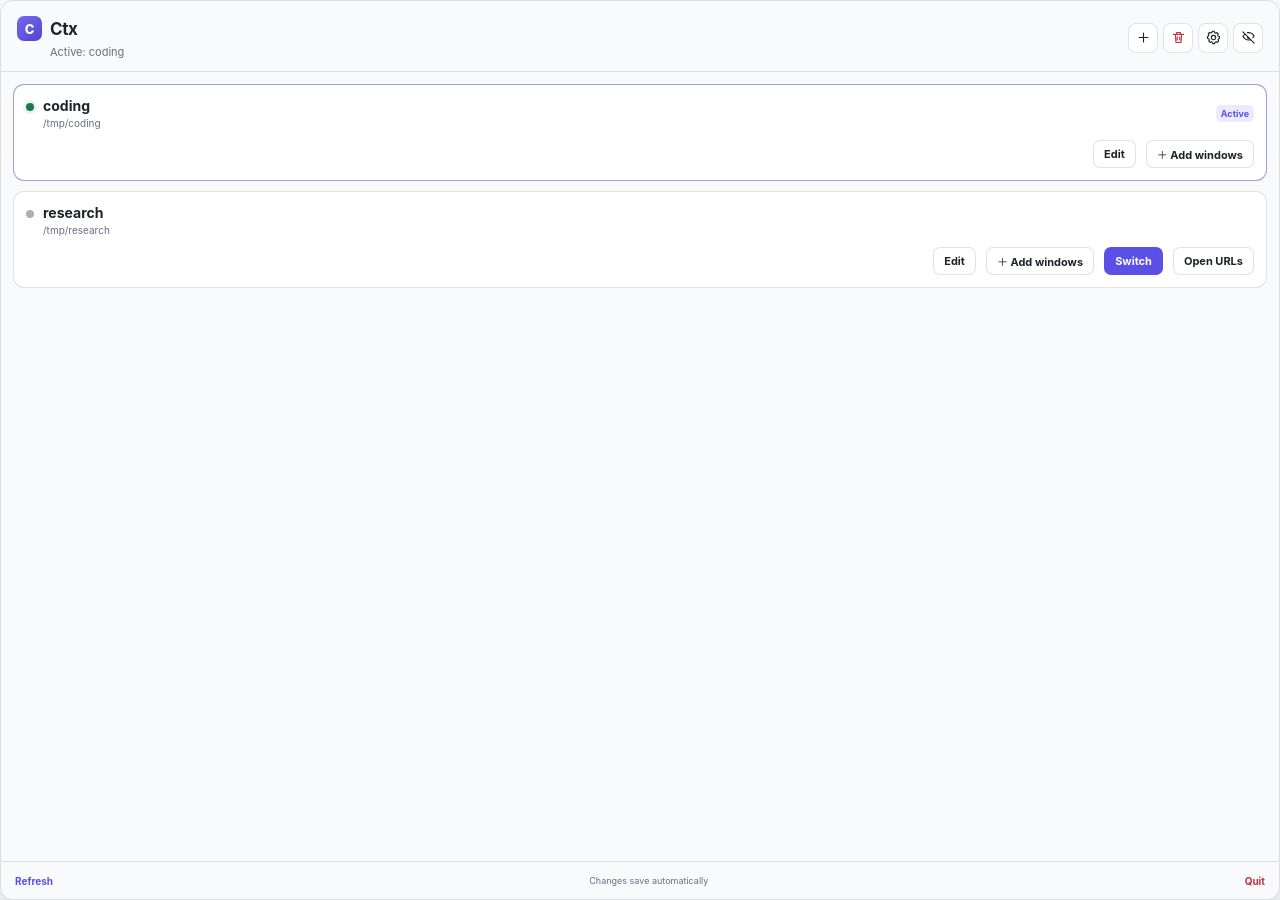
Test: Ctx popover › reopens the popover for partial URL failures
expect the heading "research" is shown: met, box [43,204,110,221]
Click the button with aria-label "Open URLs for research context". click: (1213, 261)
box: [1173,247,1254,275]
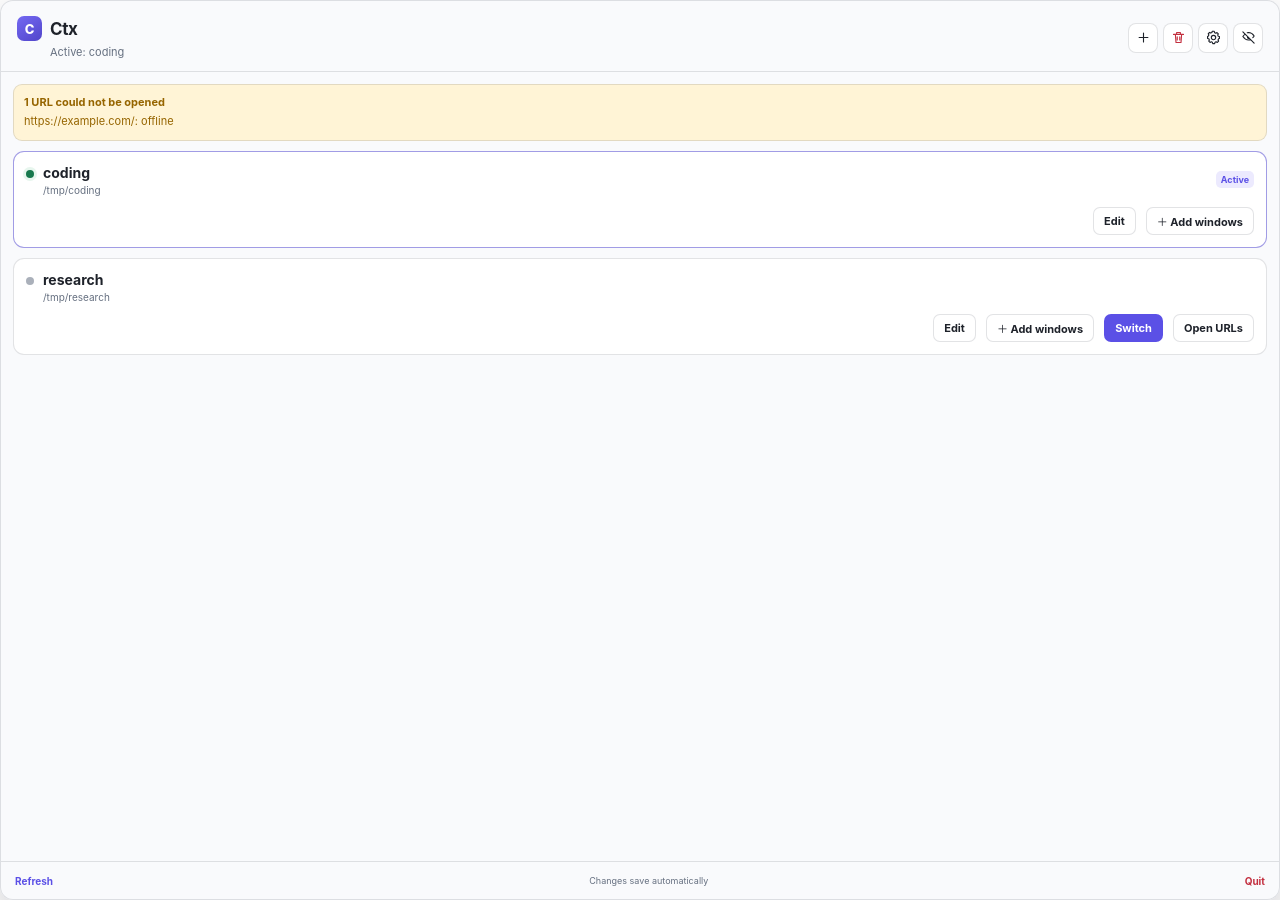
expect the text "1 URL could not be opened" is shown: met, box [24,95,165,109]
